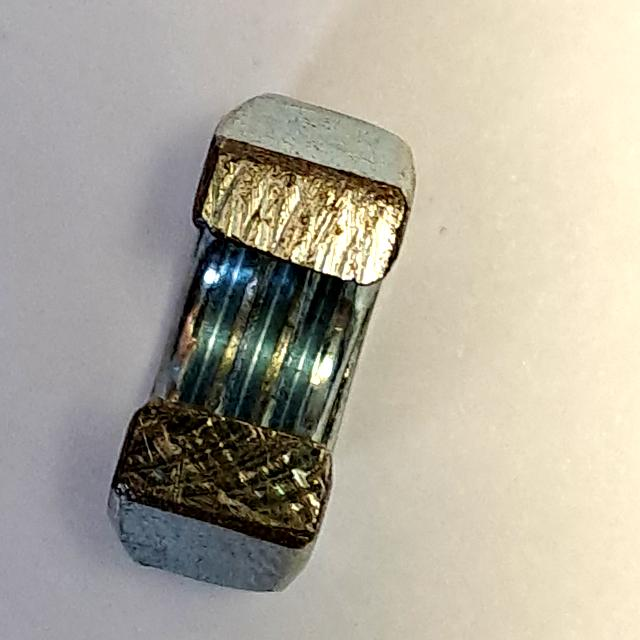Side-Fracture: (100, 79, 426, 604)
